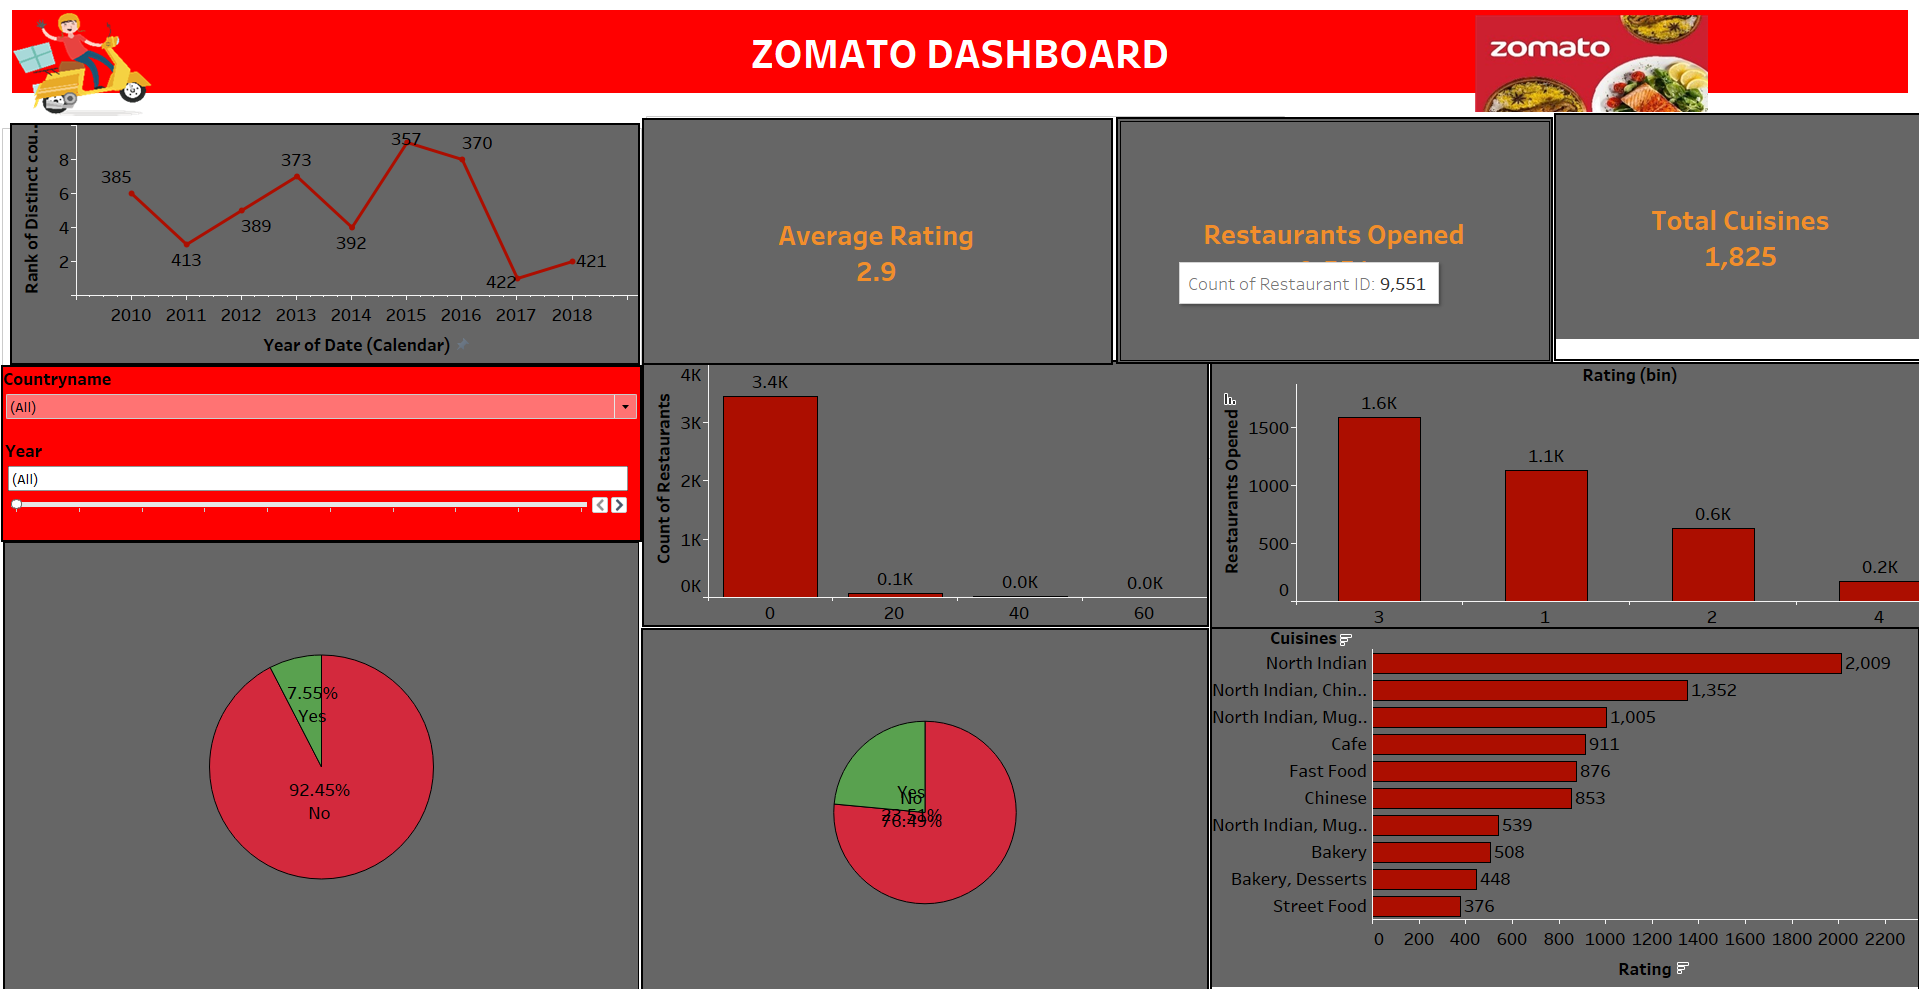

What the dashboard file says about the page in this screenshot:
{"tool":"tableau","page":{"name":"Zomato Dashboard","canvas":[1000,1000],"units":"permille","ordinal":0},"visuals":[{"type":"title","box":[4.8,10,990.3,113.6]},{"type":"image","param":"Image/Picture1.png","box":[6.7,15,348.5,103.6]},{"type":"image","param":"Image/Picture2.jpg","box":[768.1,17.5,223.4,97.4]},{"type":"worksheet","title":"Restaurants Opened","mark":"Automatic","box":[581.1,119.9,227.7,248.4]},{"type":"worksheet","title":"Average Rating","mark":"Automatic","box":[334.6,121.1,245.3,248.4]},{"type":"worksheet","title":"Restaurant Count by year, quarter, month","mark":"Automatic","rows":["RestaurantID"],"cols":["Date (Calendar)"],"box":[5.5,126.1,327.9,243.5]},{"type":"worksheet","title":"Restaurants by reasonable price(USD)","mark":"Automatic","rows":["RestaurantID"],"cols":["usd conversion (bin)"],"box":[334.3,364.5,295.1,268.4]},{"type":"filter","title":"Restaurant Count by year, quarter, month","param":"[federated.059zkyd1o69yb41dkhhzi0cy4kym].[none:Countryname:nk]","box":[0.6,369.5,333.9,178.5]},{"type":"filter","title":"Restaurant Count by year, quarter, month","param":"[federated.059zkyd1o69yb41dkhhzi0cy4kym].[none:Year:ok]","box":[2.4,444.4,326.1,104.9]},{"type":"worksheet","title":"Percentage of Restaurants on Table Booking","mark":"Pie","box":[1.8,546.8,331.5,455.7]}]}

Visuals, with their boxes on the dashboard's canvas, which has no fixed pixel size, in thousandths of its width and height (x1, y1, x2, y2). These are canvas units, not pixel positions in the 1919x989 screenshot, which may show the page scaled, cropped or inside an application window:
title: left=5, top=10, right=995, bottom=124
image: left=7, top=15, right=355, bottom=119
image: left=768, top=18, right=992, bottom=115
"Restaurants Opened" worksheet: left=581, top=120, right=809, bottom=368
"Average Rating" worksheet: left=335, top=121, right=580, bottom=370
"Restaurant Count by year, quarter, month" worksheet: left=6, top=126, right=333, bottom=370
"Restaurants by reasonable price(USD)" worksheet: left=334, top=364, right=629, bottom=633
"Restaurant Count by year, quarter, month" filter: left=1, top=370, right=334, bottom=548
"Restaurant Count by year, quarter, month" filter: left=2, top=444, right=328, bottom=549
"Percentage of Restaurants on Table Booking" worksheet (Pie marks): left=2, top=547, right=333, bottom=1002
